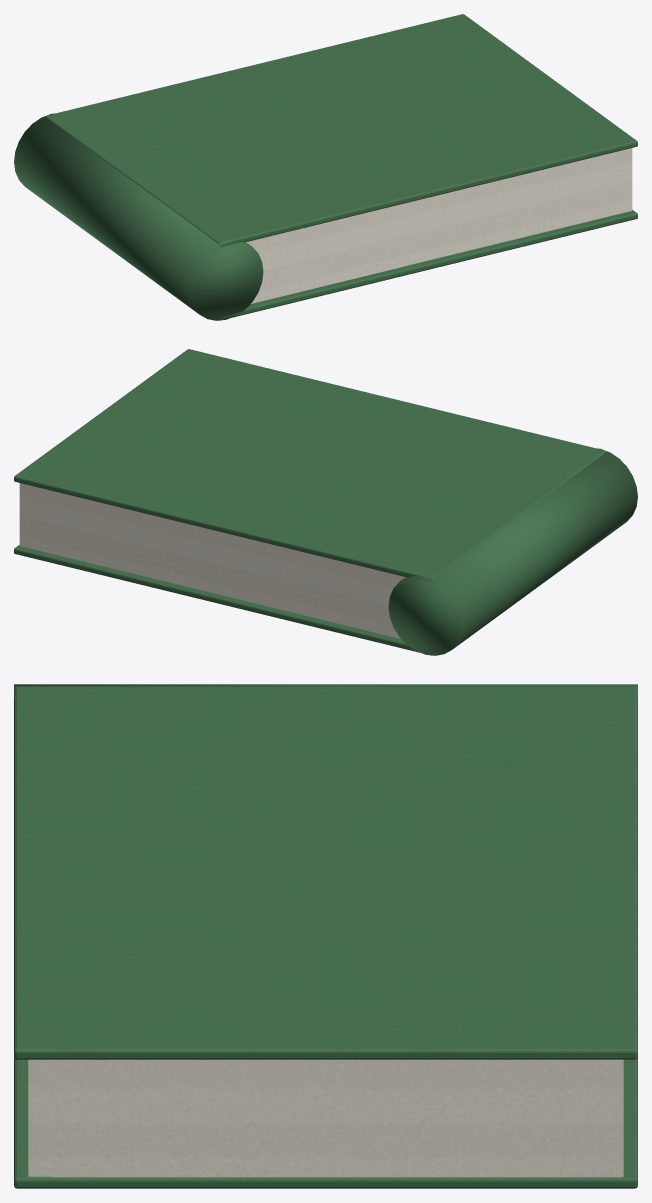
File: book_green.glb
The picture shows the model from 3 angles, top to bottom: view 1: azimuth 30°, elevation 25°; view 2: azimuth 150°, elevation 25°; view 3: azimuth 270°, elevation 25°; orthographic projection. The views are drawn at different scales.
Visible parts, largest first — view 1: book_green; view 2: book_green; view 3: book_green.
Part boxes in pixels (x1,y1,x2,y2): book_green: [14, 14, 637, 320]; book_green: [14, 349, 637, 655]; book_green: [14, 684, 637, 1188].
Bounding box in the file's own units: 9.65 × 1.6 × 6.5.
Materials: 1 (1 with a texture image).
